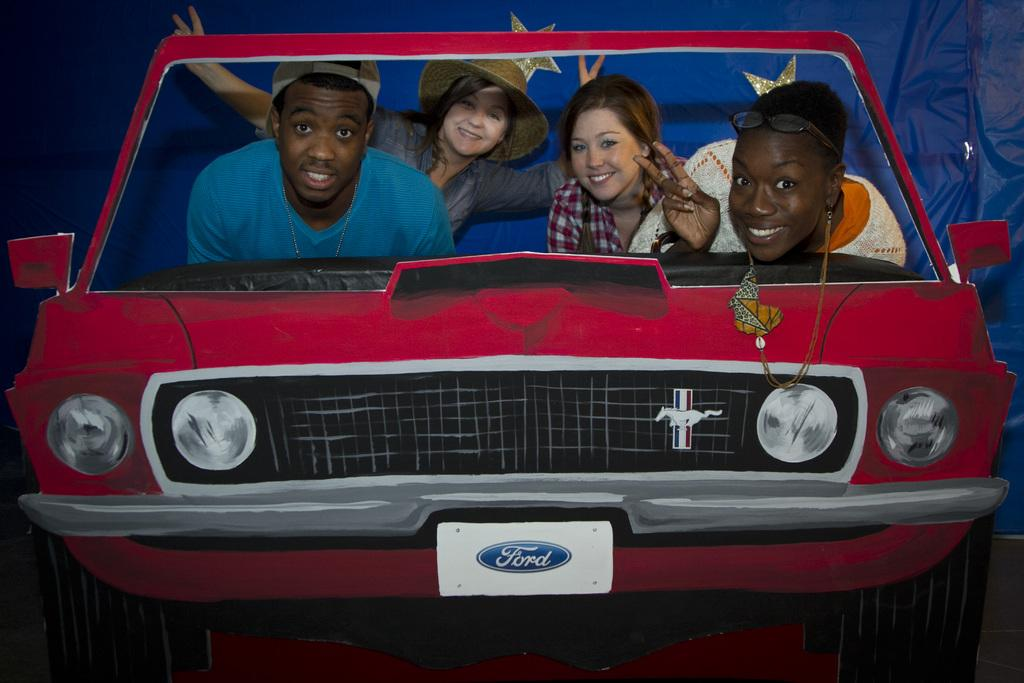Hat: (420, 55, 547, 164), (264, 58, 379, 136)
